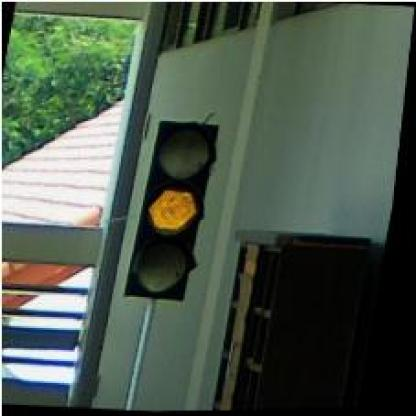yellow: (126, 119, 226, 302)
